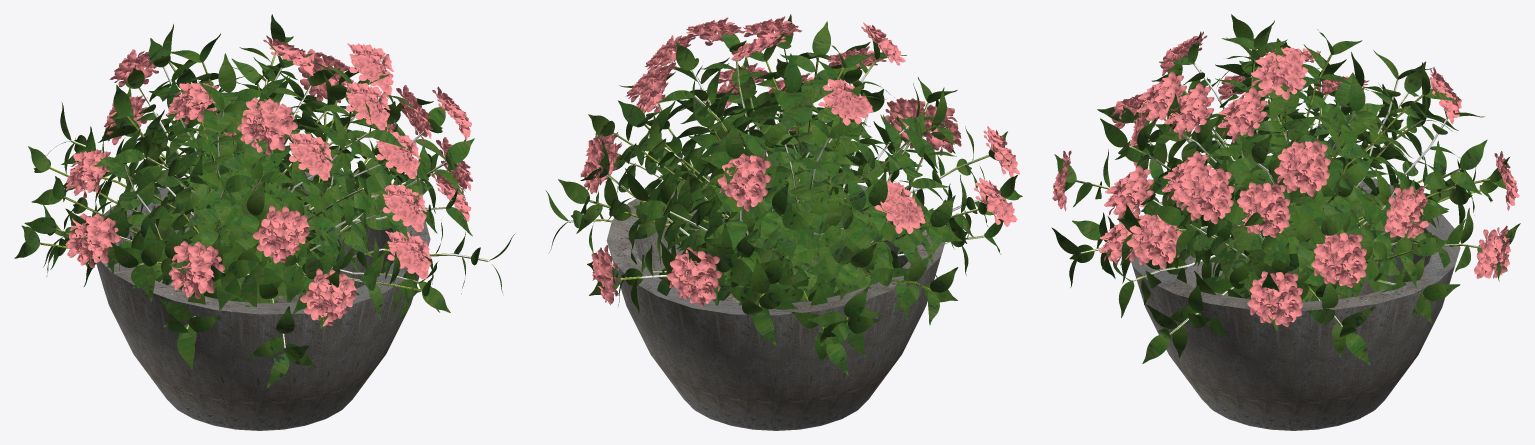
The model's file is flores-salmon.glb.
The picture shows the model from 3 angles, left to right: view 1: azimuth 30°, elevation 25°; view 2: azimuth 150°, elevation 25°; view 3: azimuth 270°, elevation 25°; orthographic projection.
Parts seen in each view (by area): view 1: SketchUp.061, SketchUp, SketchUp.8363, SketchUp.002; view 2: SketchUp.061, SketchUp, SketchUp.8363, SketchUp.002; view 3: SketchUp.061, SketchUp.8363, SketchUp, SketchUp.002.
Part boxes in pixels (x1,y1,x2,y2): SketchUp.061: [14, 14, 514, 388]; SketchUp: [96, 172, 430, 430]; SketchUp.8363: [65, 35, 472, 326]; SketchUp.002: [40, 51, 488, 353]; SketchUp.061: [545, 14, 1022, 375]; SketchUp: [606, 176, 945, 430]; SketchUp.8363: [580, 16, 1019, 306]; SketchUp.002: [568, 49, 999, 329]; SketchUp.061: [1051, 14, 1520, 365]; SketchUp.8363: [1052, 31, 1519, 326]; SketchUp: [1131, 178, 1460, 430]; SketchUp.002: [1076, 48, 1489, 335].
Size of the model in its own units: 0.934 by 0.7614 by 0.9124.
5 materials, 3 textured.
